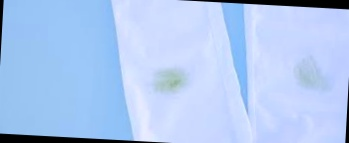earth: (292, 60, 325, 86), (158, 68, 189, 92)
